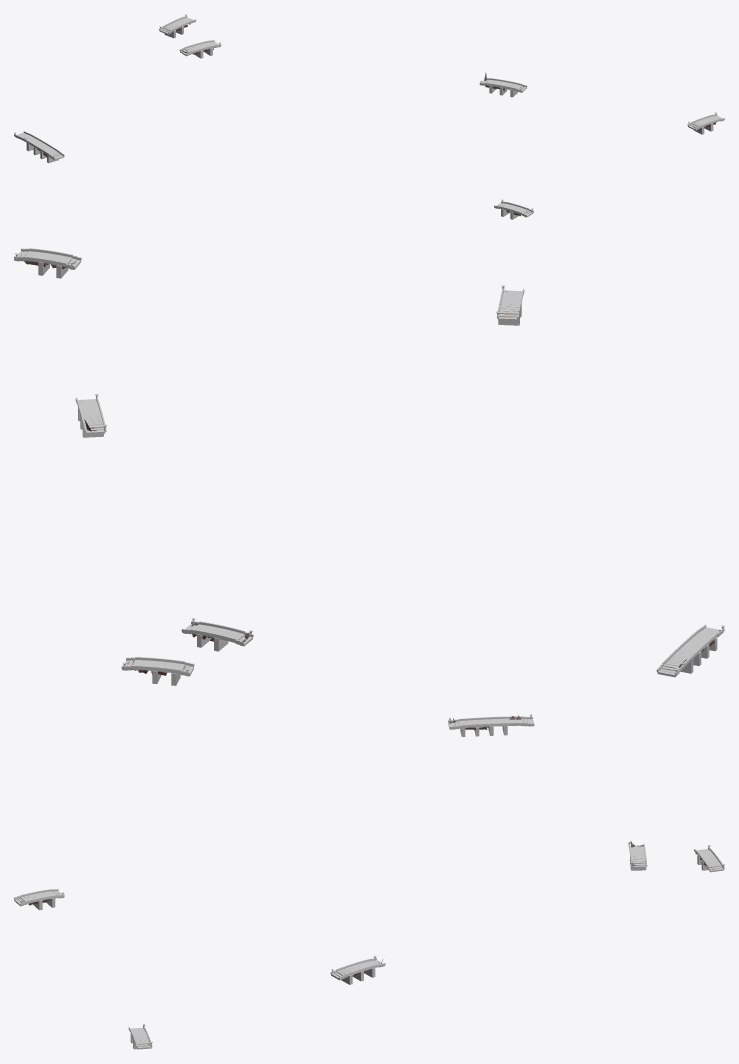
The model's file is Dungeon-3B-Bridges.fbx.
3 renders of one model, top to bottom at view 1: azimuth 30°, elevation 25°; view 2: azimuth 150°, elevation 25°; view 3: azimuth 270°, elevation 25°, orthographic. The views are drawn at different scales.
Visible parts, largest first — view 1: Dungeon-3B-Bridges-f8, Dungeon-3B-Bridges-f5, Dungeon-3B-Bridges-f6, Dungeon-3B-Bridges-f3, Dungeon-3B-Bridges-f7, Dungeon-3B-Bridges-f4; view 2: Dungeon-3B-Bridges-f8, Dungeon-3B-Bridges-f6, Dungeon-3B-Bridges-f7, Dungeon-3B-Bridges-f4, Dungeon-3B-Bridges-f5, Dungeon-3B-Bridges-f3; view 3: Dungeon-3B-Bridges-f8, Dungeon-3B-Bridges-f5, Dungeon-3B-Bridges-f3.
Part boxes in pixels (x1,y1,x2,y2): Dungeon-3B-Bridges-f8: (14, 131, 64, 163); Dungeon-3B-Bridges-f5: (479, 78, 527, 97); Dungeon-3B-Bridges-f6: (179, 40, 221, 58); Dungeon-3B-Bridges-f3: (494, 199, 533, 219); Dungeon-3B-Bridges-f7: (159, 14, 196, 38); Dungeon-3B-Bridges-f4: (687, 112, 724, 134); Dungeon-3B-Bridges-f8: (656, 624, 724, 677); Dungeon-3B-Bridges-f6: (181, 618, 253, 651); Dungeon-3B-Bridges-f7: (121, 657, 194, 685); Dungeon-3B-Bridges-f4: (14, 248, 81, 278); Dungeon-3B-Bridges-f5: (75, 394, 107, 437); Dungeon-3B-Bridges-f3: (496, 285, 524, 325); Dungeon-3B-Bridges-f8: (448, 714, 534, 736); Dungeon-3B-Bridges-f5: (330, 955, 385, 984); Dungeon-3B-Bridges-f3: (14, 889, 64, 910).
Size of the model in its own units: 84.85 by 2.24 by 77.29.
